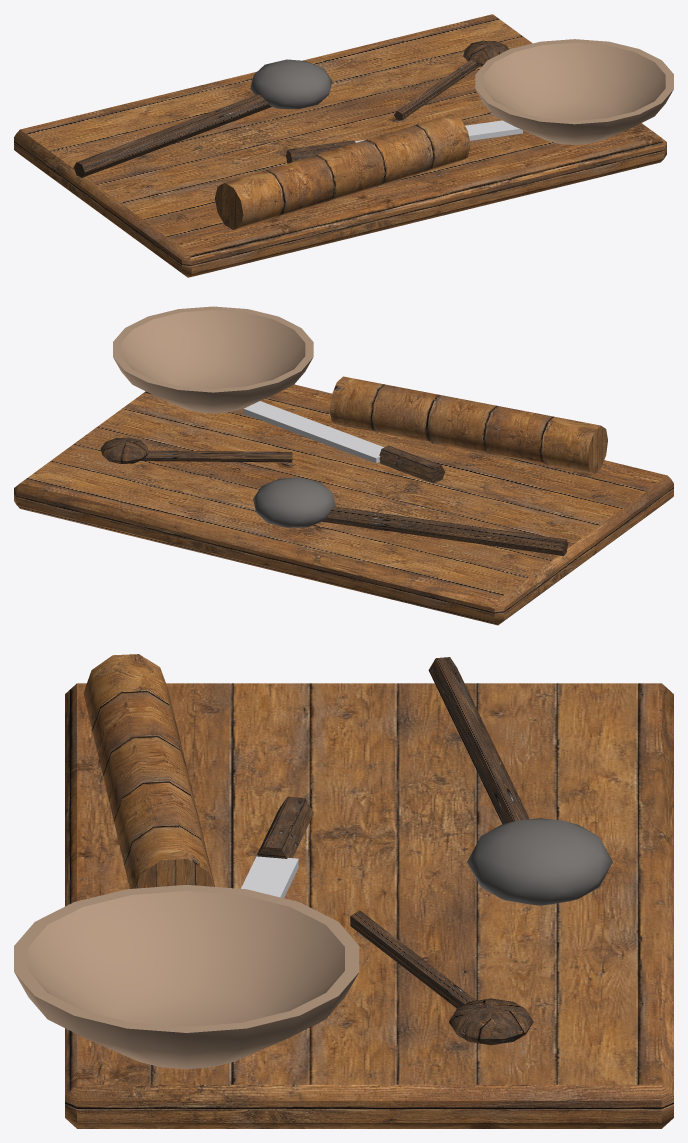
File: utensils-set-v01.glb
3 renders of one model, top to bottom at view 1: azimuth 30°, elevation 25°; view 2: azimuth 150°, elevation 25°; view 3: azimuth 270°, elevation 25°, orthographic. The views are drawn at different scales.
Parts seen in each view (by area): view 1: utensils-set; view 2: utensils-set; view 3: utensils-set.
Boxes of the visible parts, x1=… form: utensils-set: x1=14, y1=14, x2=673, y2=277; utensils-set: x1=14, y1=306, x2=673, y2=625; utensils-set: x1=14, y1=654, x2=673, y2=1128.
Bounding box in the file's own units: 0.844 × 0.112 × 0.5418.
Materials: 5 (2 with a texture image).
